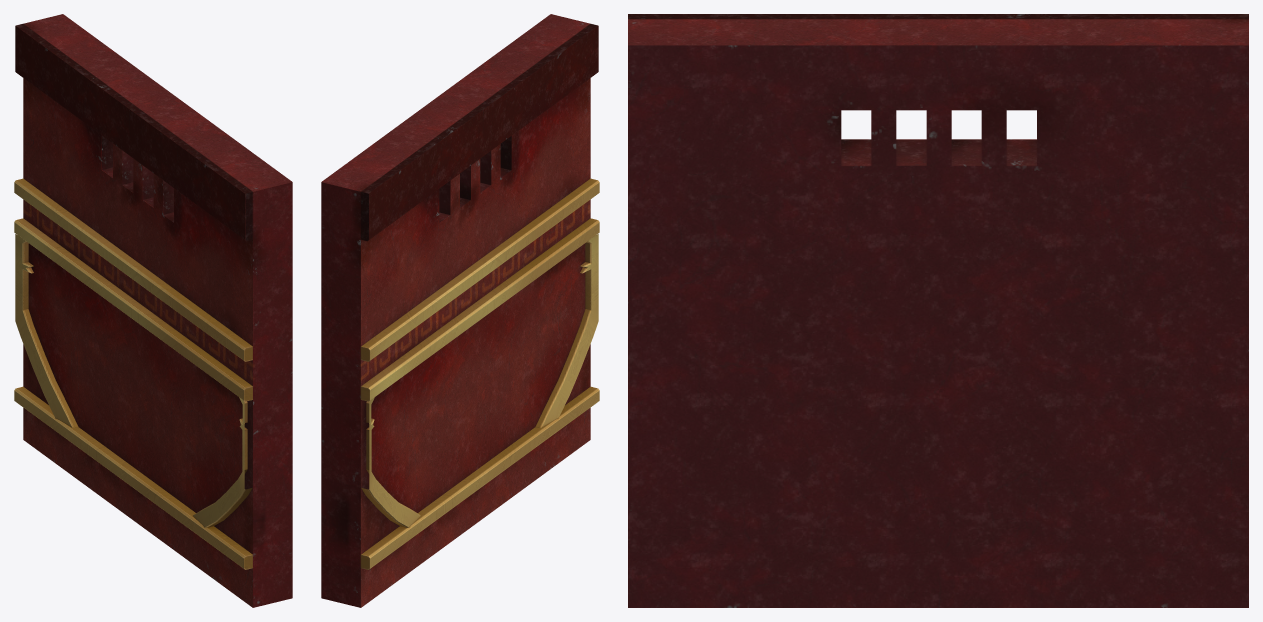
The model's file is SM_KingsTempleWall2x2_B_.glb.
The picture shows the model from 3 angles, left to right: view 1: azimuth 30°, elevation 25°; view 2: azimuth 150°, elevation 25°; view 3: azimuth 270°, elevation 25°; orthographic projection. The views are drawn at different scales.
Parts seen in each view (by area): view 1: SM_KingsTempleWall2x2_B__LOD0; view 2: SM_KingsTempleWall2x2_B__LOD0; view 3: SM_KingsTempleWall2x2_B__LOD0.
Part boxes in pixels (x1,y1,x2,y2): SM_KingsTempleWall2x2_B__LOD0: (14,14,292,607); SM_KingsTempleWall2x2_B__LOD0: (321,14,599,607); SM_KingsTempleWall2x2_B__LOD0: (628,14,1248,607).
Bounding box in the file's own units: 0.2458 × 2 × 2.
1 material, 1 textured.
